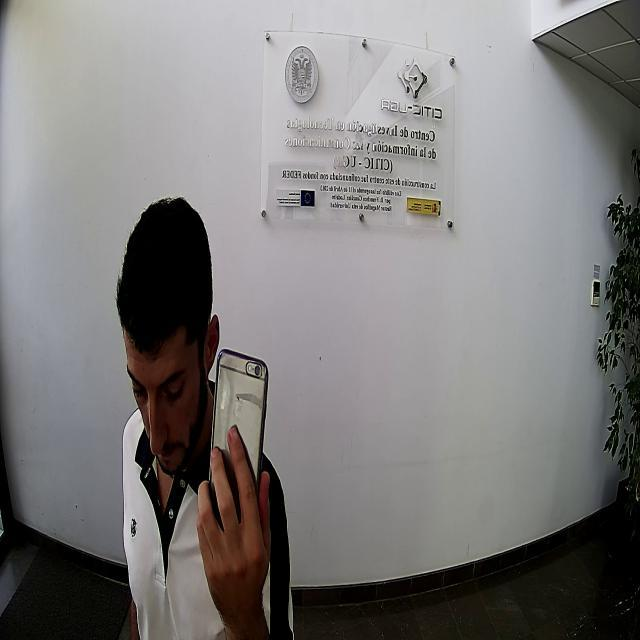phone: (208, 349, 274, 506)
